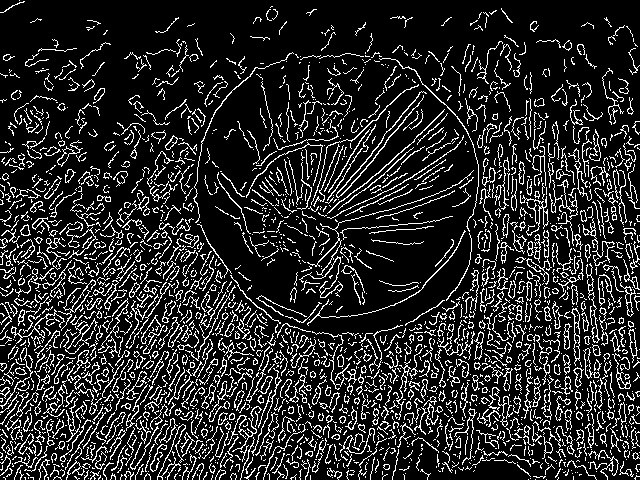onion: (184, 48, 487, 351)
